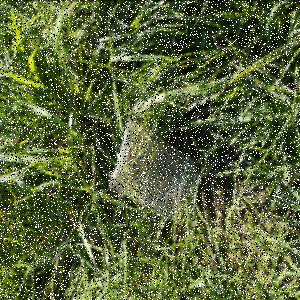Trash: (110, 117, 198, 227)
